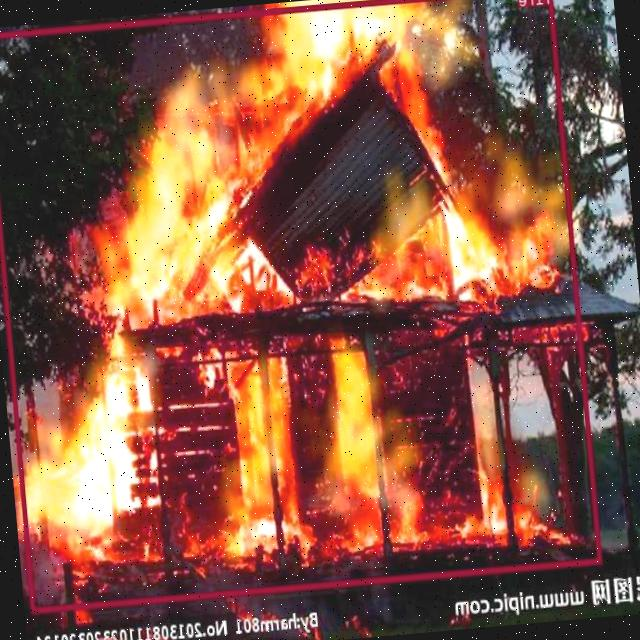fire: (0, 0, 602, 612)
